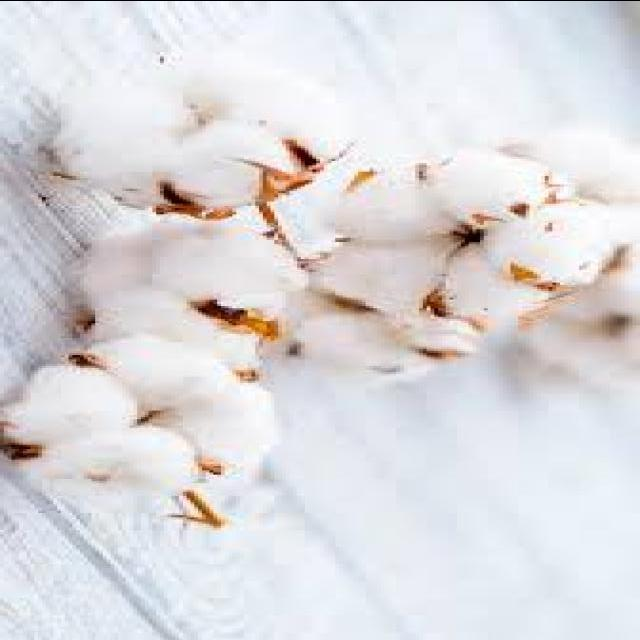Matured Cotton Boll: (314, 143, 604, 359), (12, 340, 278, 523), (40, 59, 328, 215), (68, 200, 310, 362)
